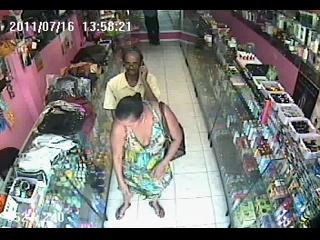Normal: (102, 50, 160, 120), (142, 10, 160, 46)
shoplifting: (110, 85, 186, 221)
